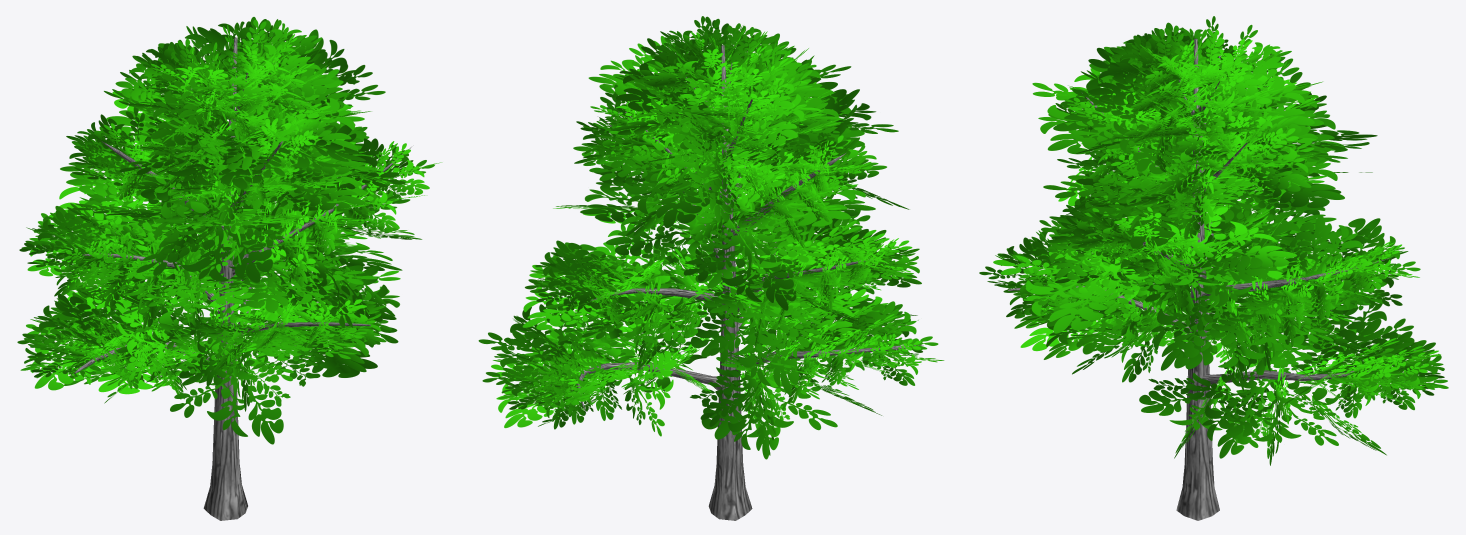
The model's file is anime_nature_tree_01.glb.
3 views of the same model, side by side, from view 1: azimuth 30°, elevation 25°; view 2: azimuth 150°, elevation 25°; view 3: azimuth 270°, elevation 25° (orthographic). The views are drawn at different scales.
Visible parts, largest first — view 1: Tree01_jbm_m; view 2: Tree01_jbm_m; view 3: Tree01_jbm_m.
Part boxes in pixels (x1,y1,x2,y2): Tree01_jbm_m: (17,17,442,520); Tree01_jbm_m: (478,16,944,520); Tree01_jbm_m: (979,16,1448,520).
Bounding box in the file's own units: 11.2 × 13.13 × 11.6.
2 materials, 2 textured.
